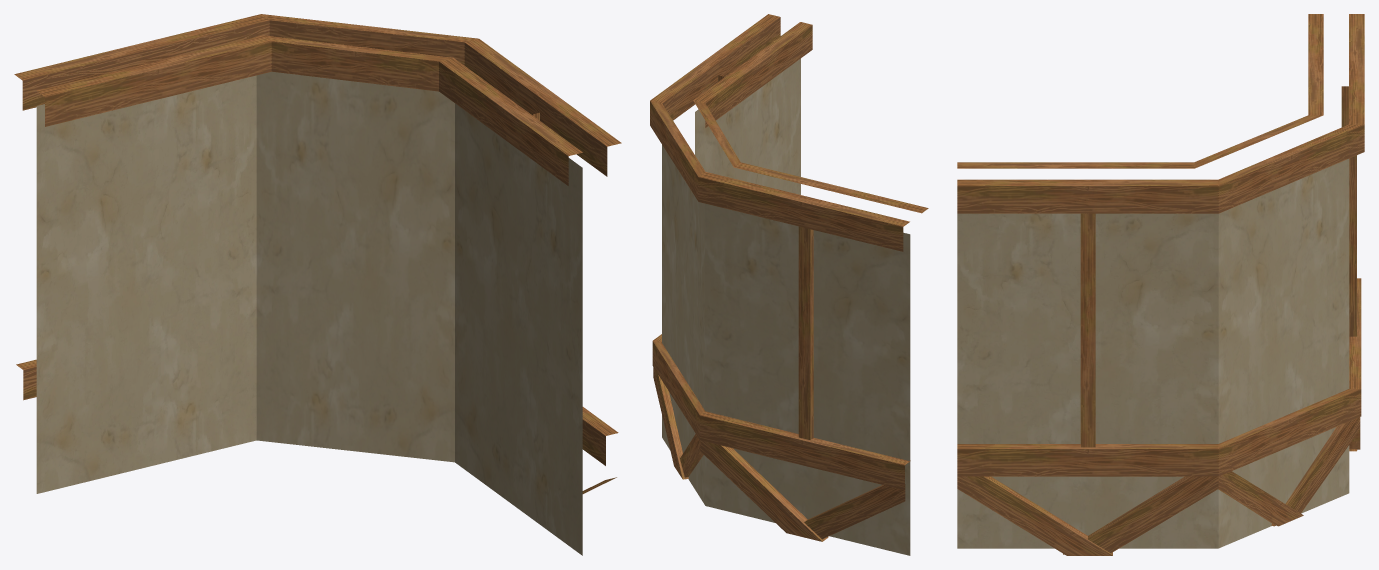
Rendered from overhang-plaster-corner-front.glb.
3 views of the same model, side by side, from view 1: azimuth 30°, elevation 25°; view 2: azimuth 150°, elevation 25°; view 3: azimuth 270°, elevation 25° (orthographic). The views are drawn at different scales.
Parts seen in each view (by area): view 1: Overhang_Plaster_Corner_Front; view 2: Overhang_Plaster_Corner_Front; view 3: Overhang_Plaster_Corner_Front.
Part boxes in pixels (bbox=[...]): Overhang_Plaster_Corner_Front: bbox=[14, 14, 621, 555]; Overhang_Plaster_Corner_Front: bbox=[650, 14, 928, 555]; Overhang_Plaster_Corner_Front: bbox=[957, 14, 1364, 555].
Size of the model in its own units: 3.12 by 3.14 by 3.12.
Materials: 2 (2 with a texture image).
